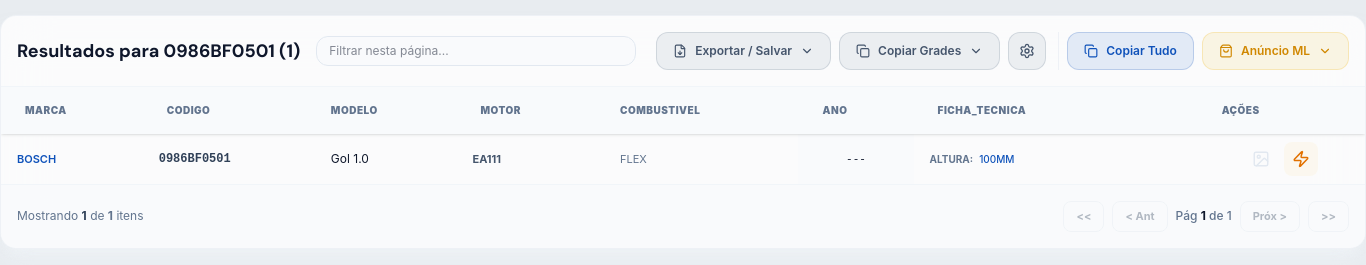
Scenario: DataTable (Home Principal) Component › closes dropdowns when pressing Escape key
Abre o menu
Click the button "Exportar / Salvar" at (744, 51), box [656,32,831,70]
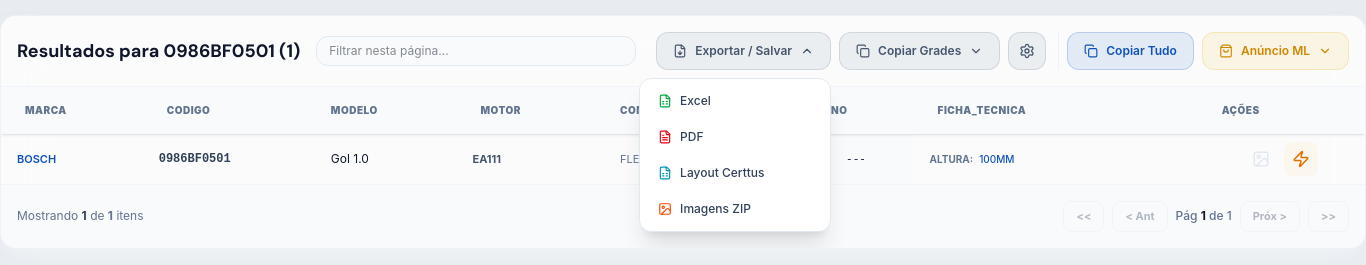
Result: the button "Exportar / Salvar" is expanded at [656,32,831,70]
Result: the button "Excel" is shown at [646,85,824,117]
Pressiona Escape
Press Escape
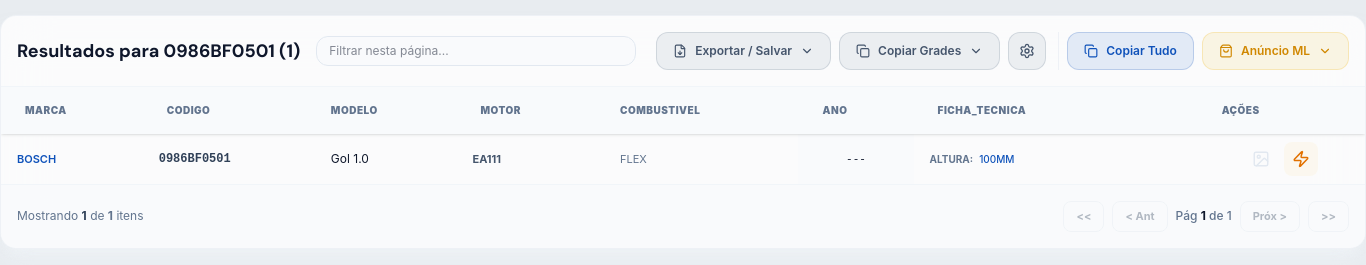
Result: the button "Exportar / Salvar" is collapsed at [656,32,831,70]
Result: the button "Excel" is gone
